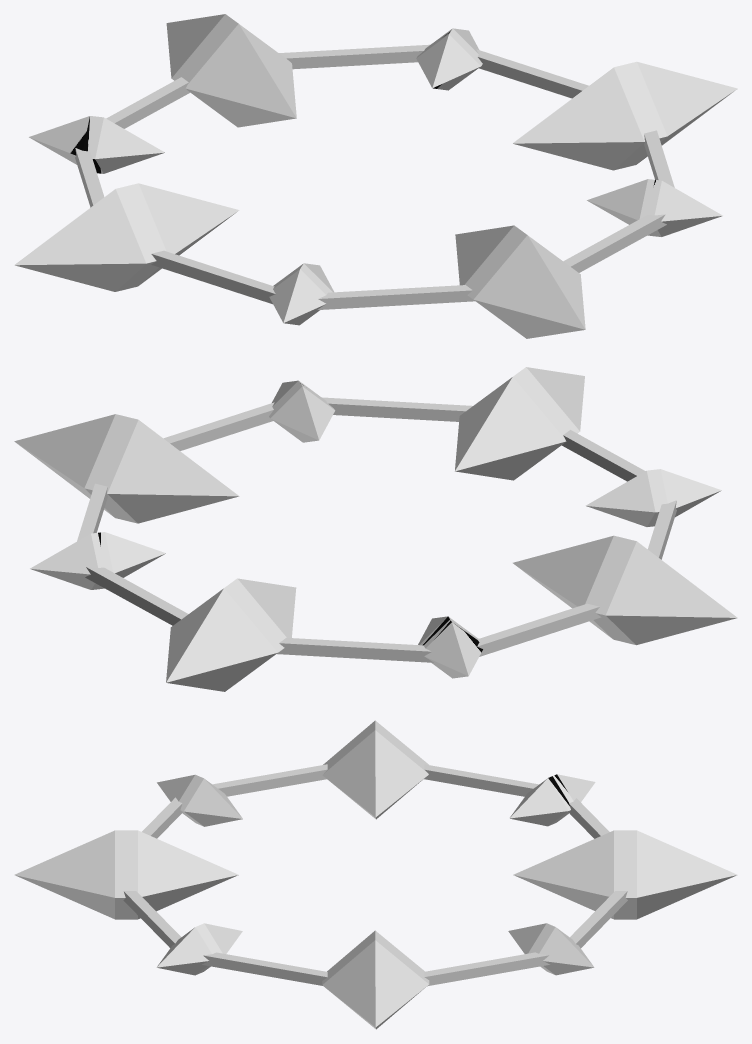
Rendered from Compass.fbx.
3 views of the same model, one above another, from view 1: azimuth 30°, elevation 25°; view 2: azimuth 150°, elevation 25°; view 3: azimuth 270°, elevation 25° (orthographic). The views are drawn at different scales.
Parts seen in each view (by area): view 1: Circle; view 2: Circle; view 3: Circle.
Boxes of the visible parts, <box> form: Circle: <box>14,14,737,338</box>; Circle: <box>14,367,737,691</box>; Circle: <box>14,720,737,1029</box>.
Bounding box in the file's own units: 330 × 45.18 × 330.
